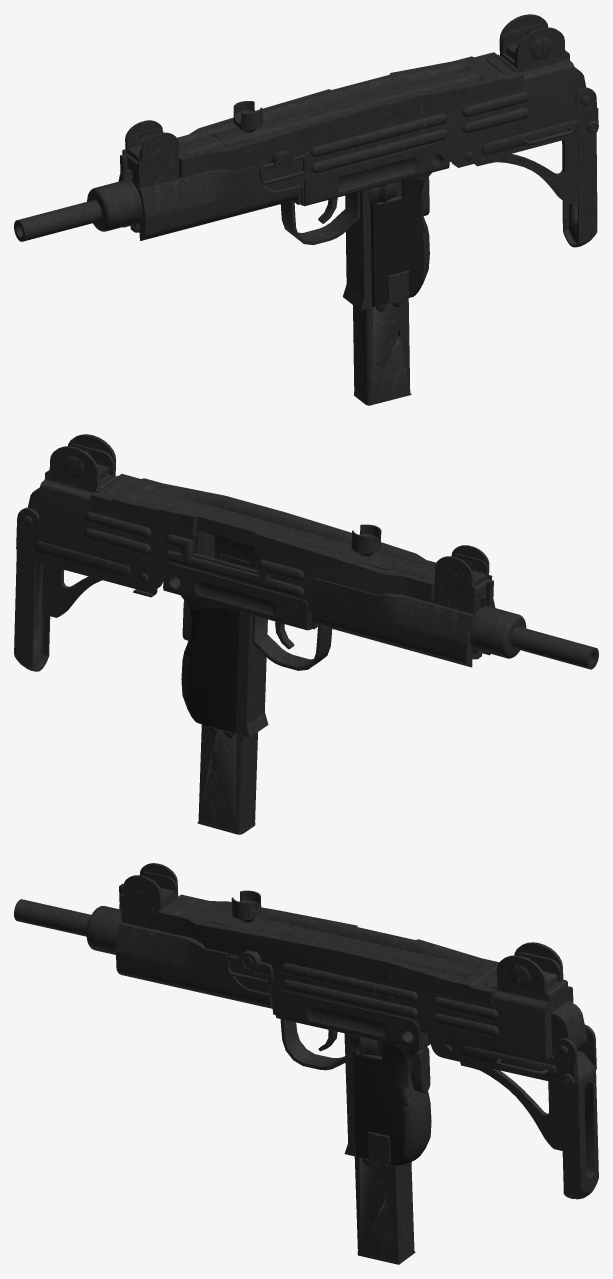
Rendered from uzi.glb.
3 views of the same model, one above another, from view 1: azimuth 30°, elevation 25°; view 2: azimuth 150°, elevation 25°; view 3: azimuth 330°, elevation 25° (orthographic).
Visible parts, largest first — view 1: uzi; view 2: uzi; view 3: uzi.
Part boxes in pixels (box(x1,y1,x2,y2)): uzi: box(14, 14, 598, 405); uzi: box(14, 434, 598, 834); uzi: box(14, 863, 598, 1264).
Bounding box in the file's own units: 0.47 × 0.2688 × 0.0488.
2 materials, 2 textured.
